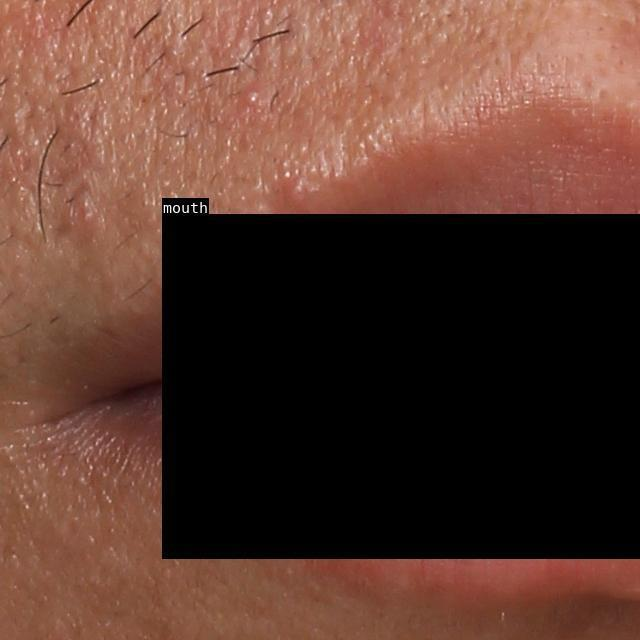comedo: (243, 89, 263, 108)
